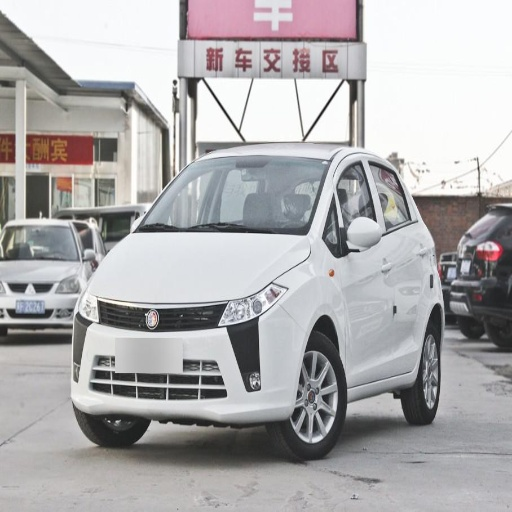front_bumper: (75, 296, 309, 427)
front_glass: (136, 154, 329, 235)
front_left_door: (331, 155, 394, 384)
